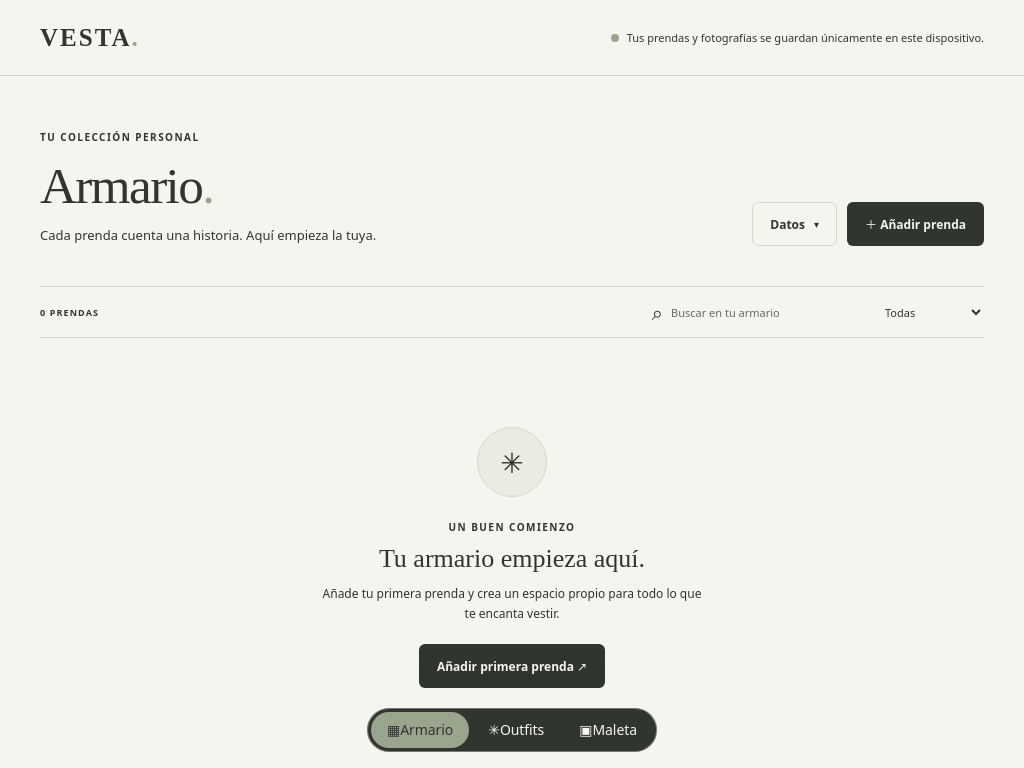
wardrobe flow › keeps adding garments inside the wardrobe flow, not in bottom navigation
expect the navigation bar named "Navegación principal" shows "Armario": met, box [371,712,469,748]
expect the navigation bar named "Navegación principal" shows "Outfits": met, box [472,712,560,748]
Click the button "＋ Añadir prenda" at (916, 224), box [847,202,984,246]
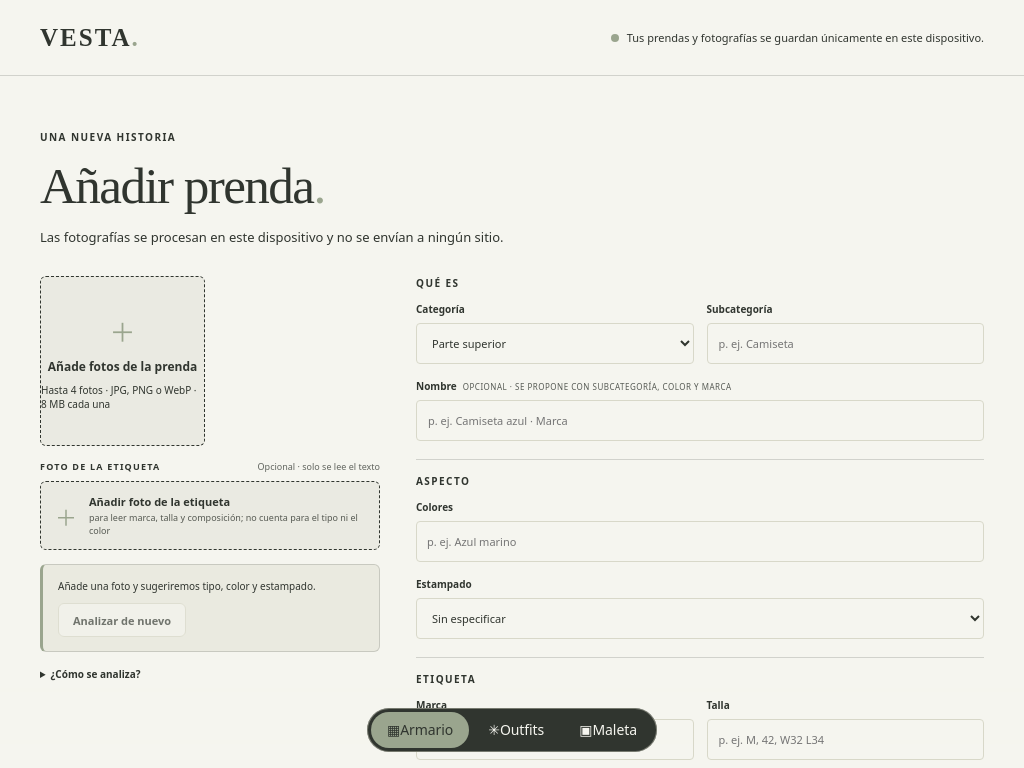
expect the heading "Añadir prenda." is shown: met, box [40,157,325,214]
